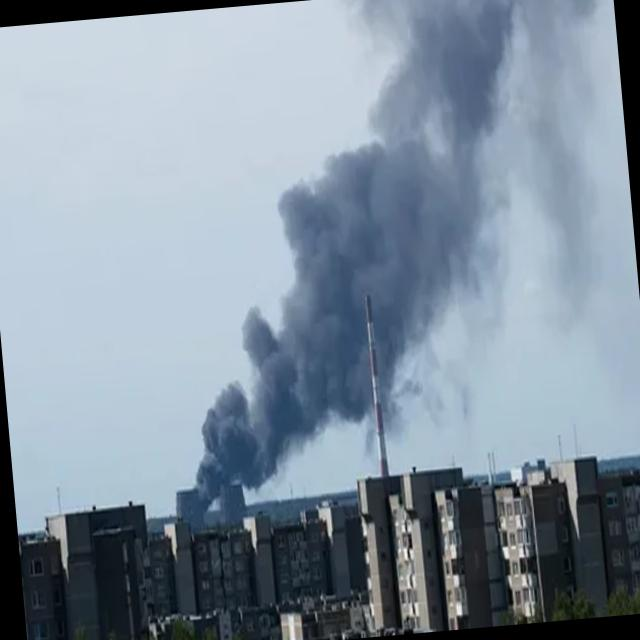Smoke: (149, 0, 640, 502)
